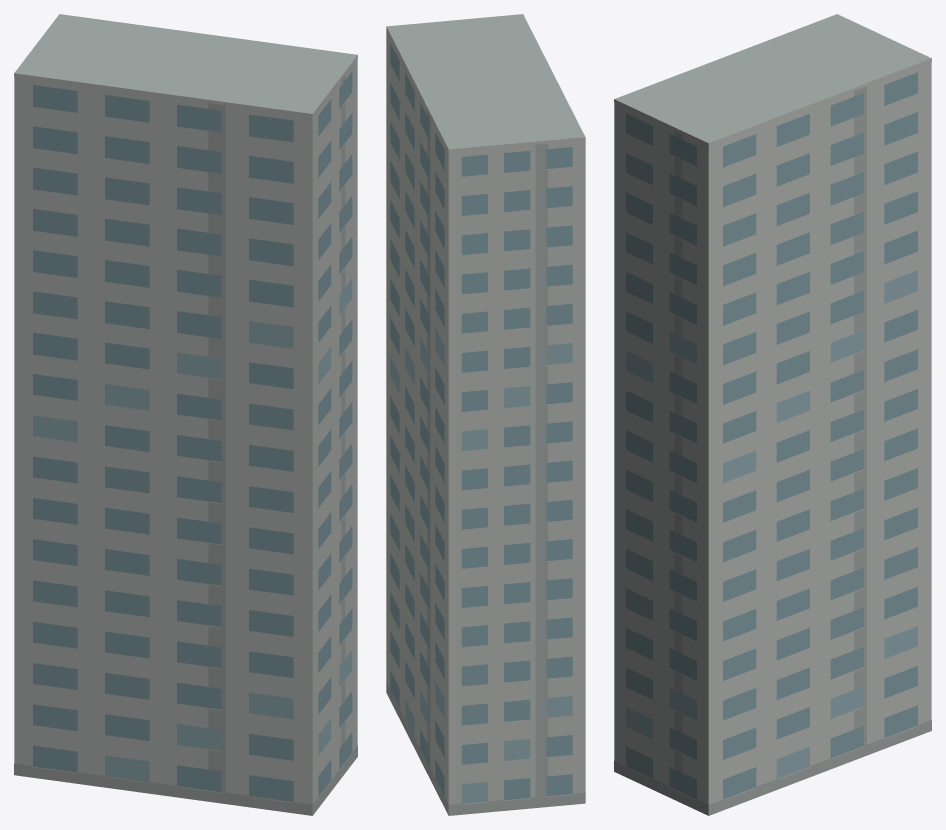
Rendered from residential-14e30049-c8a1-468f-b627-eac4269f227d.glb.
3 views of the same model, side by side, from view 1: azimuth 30°, elevation 25°; view 2: azimuth 150°, elevation 25°; view 3: azimuth 270°, elevation 25° (orthographic). The views are drawn at different scales.
Parts seen in each view (by area): view 1: residential-14e30049-c8a1-468f-b627-eac4269f227d.tmp; view 2: residential-14e30049-c8a1-468f-b627-eac4269f227d.tmp; view 3: residential-14e30049-c8a1-468f-b627-eac4269f227d.tmp.
Part boxes in pixels (x1,y1,x2,y2): residential-14e30049-c8a1-468f-b627-eac4269f227d.tmp: (14,14,357,815); residential-14e30049-c8a1-468f-b627-eac4269f227d.tmp: (386,14,585,815); residential-14e30049-c8a1-468f-b627-eac4269f227d.tmp: (614,14,931,815).
Bounding box in the file's own units: 21.04 × 51 × 21.84.
